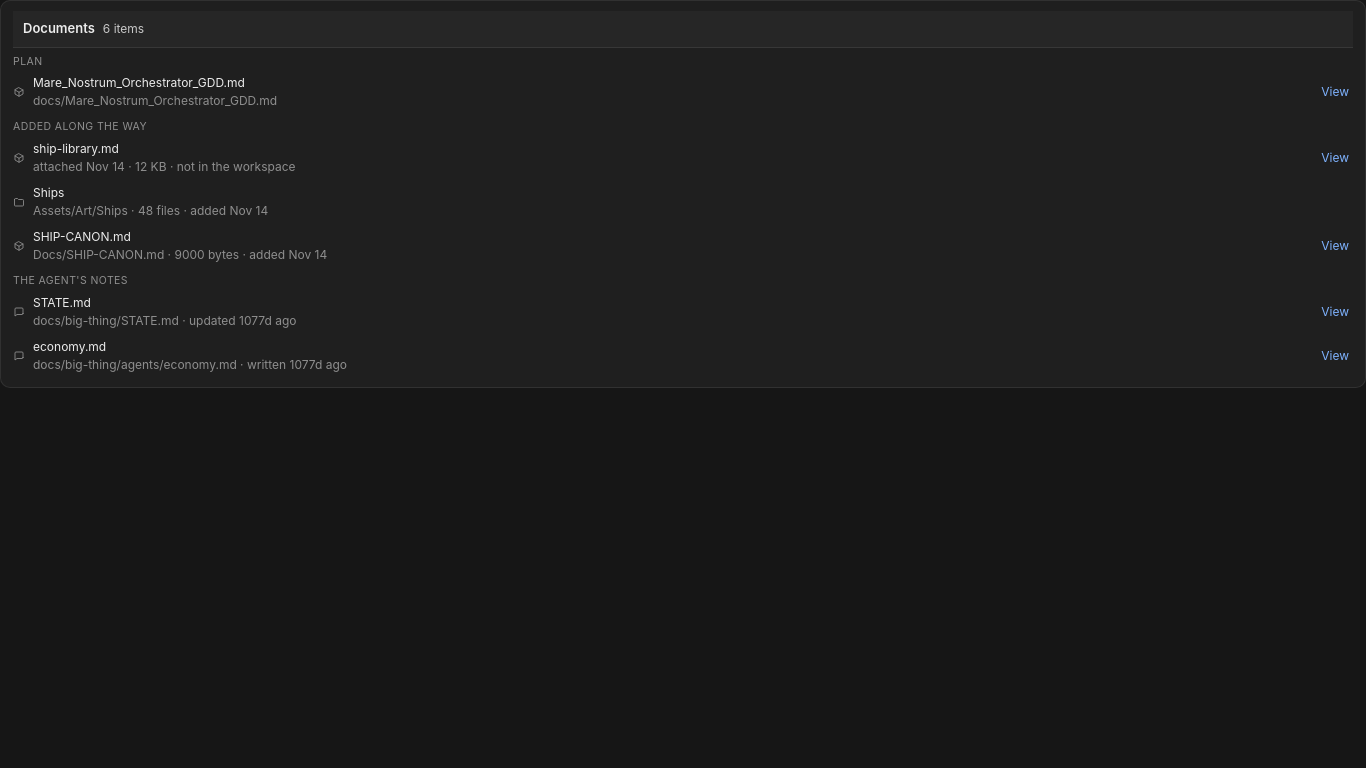
it: the documents card › opens a document that lives outside the workspace from the amendment that quoted it
Click the button "View" in the row of "ship-library.md": (1335, 158) [1317,149,1353,167]
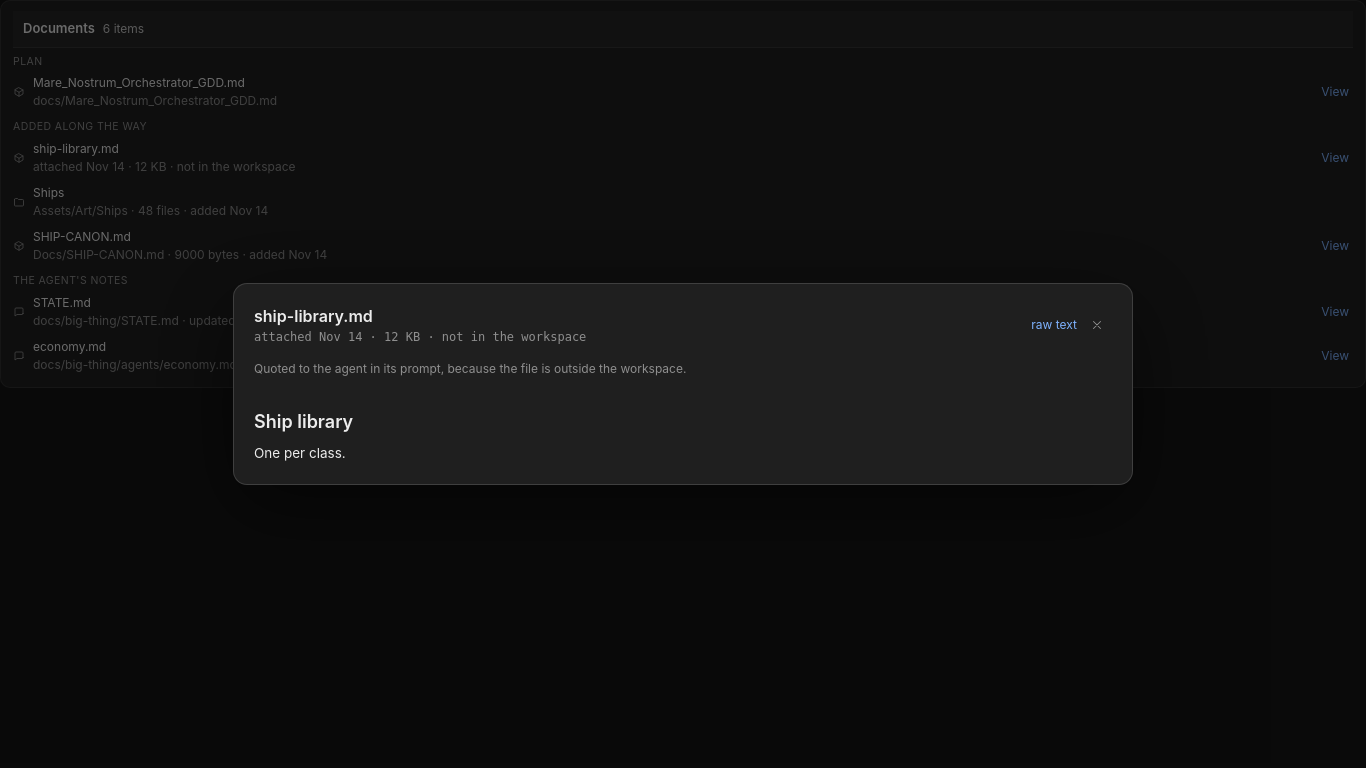
Result: the text "One per class." is shown at [254,445,346,461]
Result: the text "outside the workspace" is shown at [254,361,686,376]
